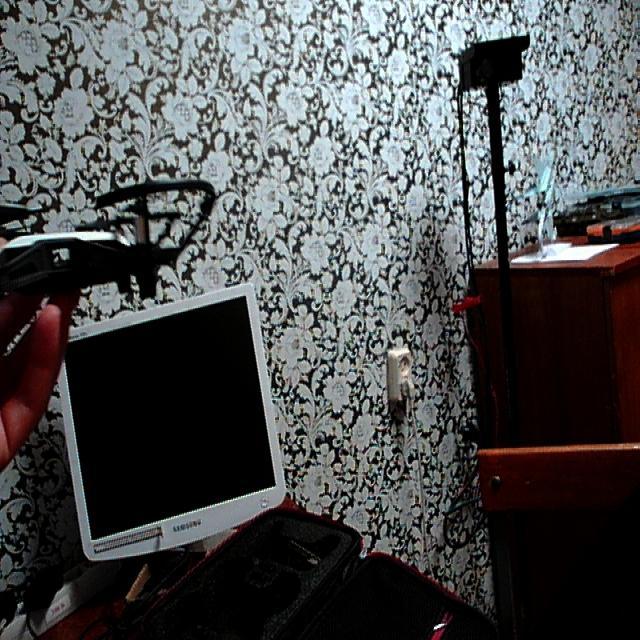drone: (0, 155, 228, 329)
